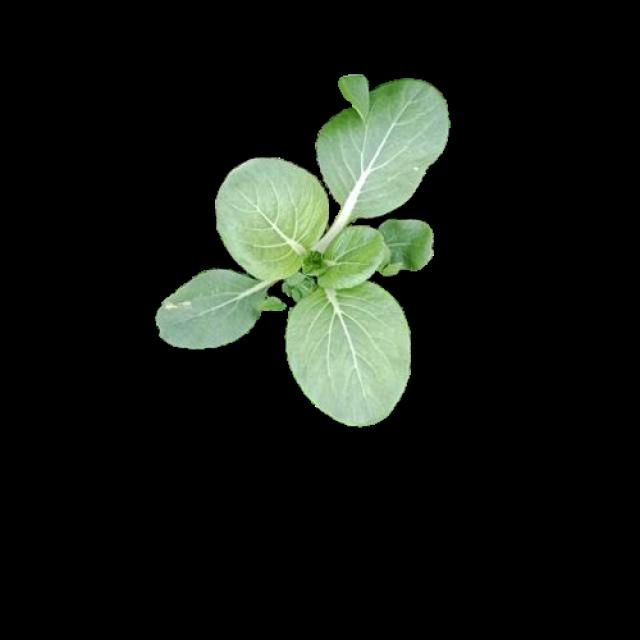not-mature: (154, 75, 450, 422)
unhealthy: (155, 269, 248, 347)
